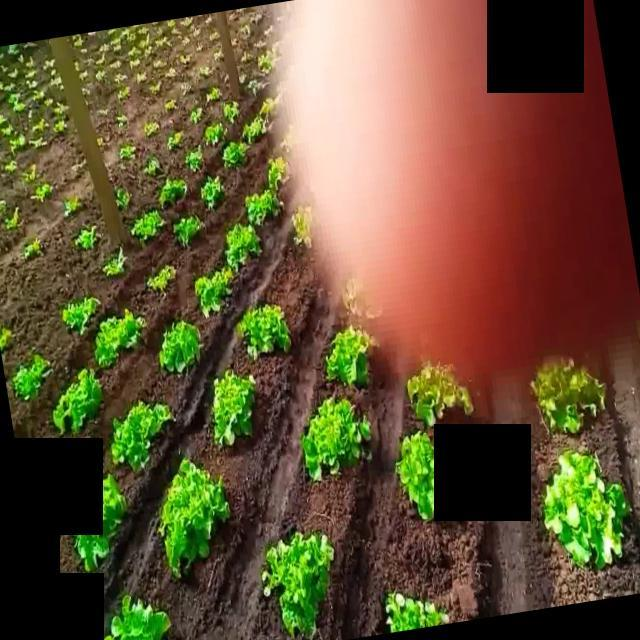Lettuce: (542, 452, 634, 571), (160, 458, 233, 581), (258, 528, 334, 634), (297, 393, 374, 480), (534, 354, 612, 436), (74, 476, 131, 570), (111, 399, 178, 474), (406, 363, 478, 426), (396, 427, 438, 519), (322, 324, 379, 388), (210, 372, 259, 445), (105, 595, 175, 640), (54, 371, 104, 434), (236, 303, 292, 359), (381, 590, 450, 634), (157, 316, 208, 375), (92, 312, 144, 364), (4, 354, 54, 404), (191, 270, 236, 314), (222, 218, 262, 266), (60, 298, 102, 334), (155, 176, 188, 212), (246, 190, 283, 222), (148, 260, 178, 294), (100, 247, 130, 280), (172, 214, 205, 243), (262, 157, 285, 194), (135, 209, 163, 239), (222, 137, 246, 169), (243, 113, 271, 139), (198, 177, 224, 203), (180, 146, 205, 173), (75, 225, 100, 250), (112, 186, 132, 212), (205, 121, 224, 147), (221, 97, 240, 123)
